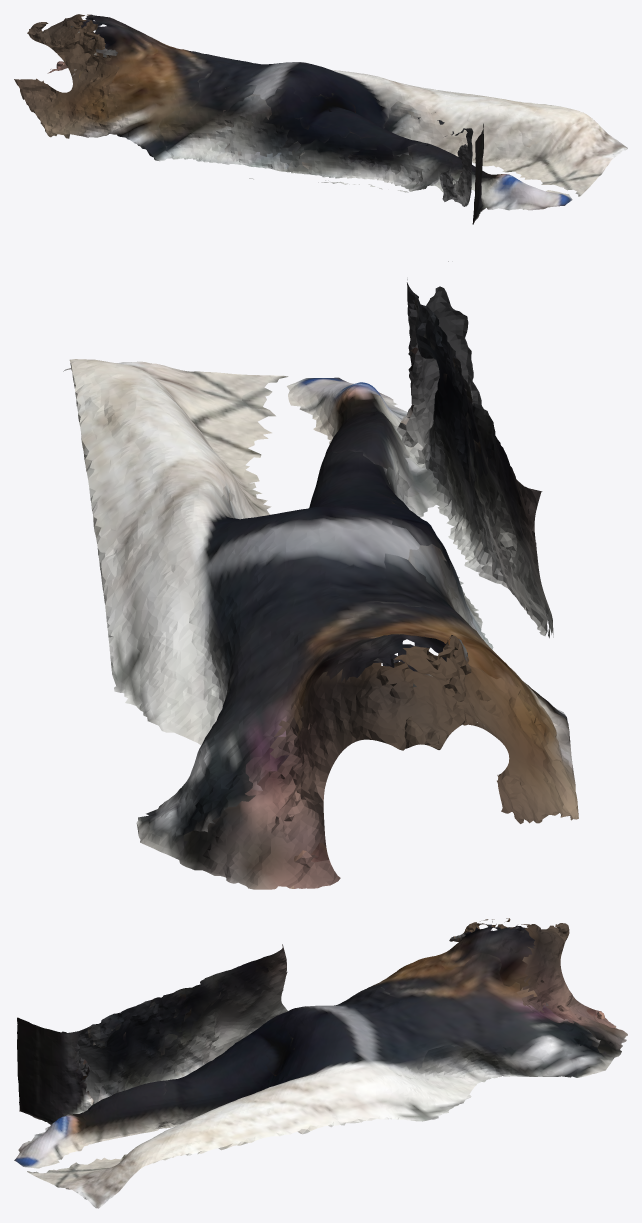
3 views of the same model, one above another, from view 1: azimuth 30°, elevation 25°; view 2: azimuth 150°, elevation 25°; view 3: azimuth 270°, elevation 25° (orthographic). The views are drawn at different scales.
Size of the model in its own units: 1.44 by 0.2785 by 1.63.
Materials: 1 (1 with a texture image).
